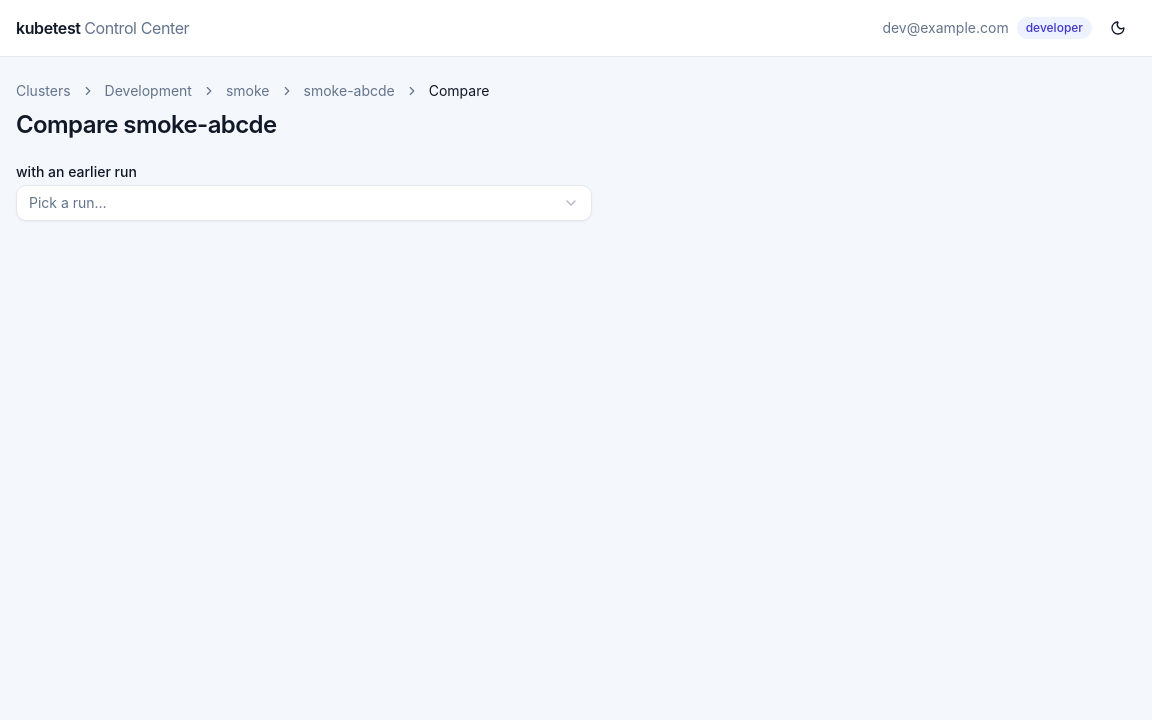
Scenario: compare a run › offers the runs to compare with, then shows what changed
This screenshot has width=1152, height=720.
Click the dropdown named "with an earlier run".
click(68, 202)  # box [16, 185, 592, 221]
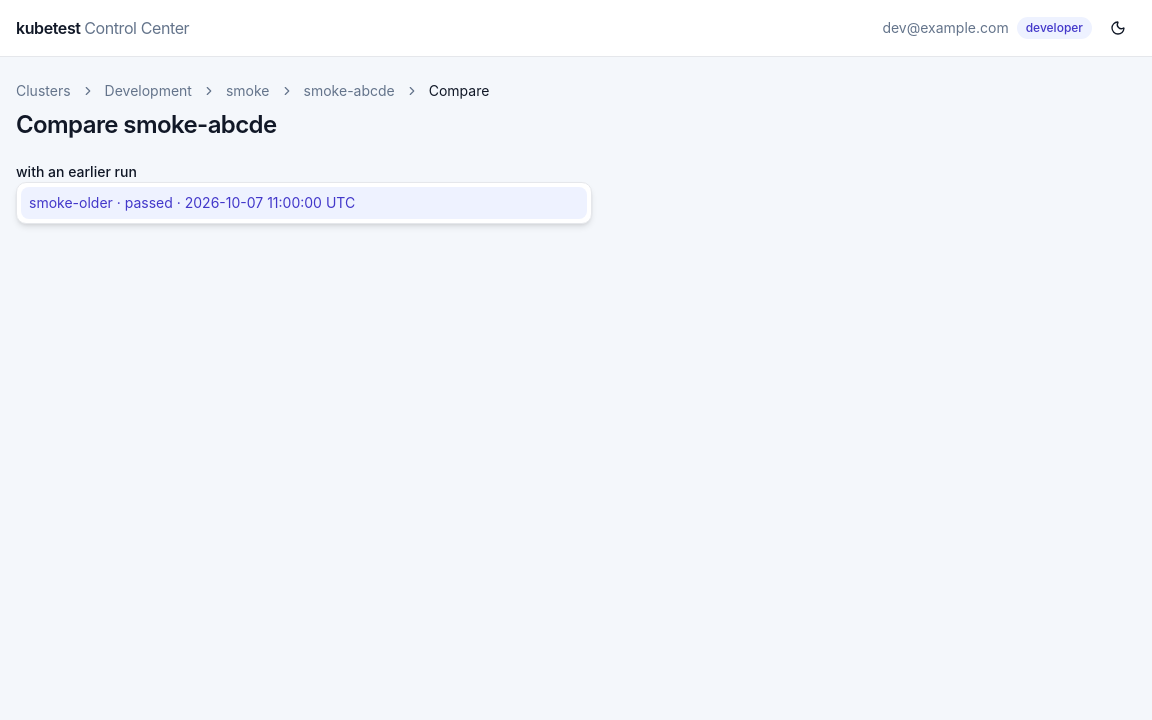
Click the option "smoke-older · passed · 2026-10-07 11:00:00 UTC".
click(304, 203)  # box [21, 187, 587, 219]
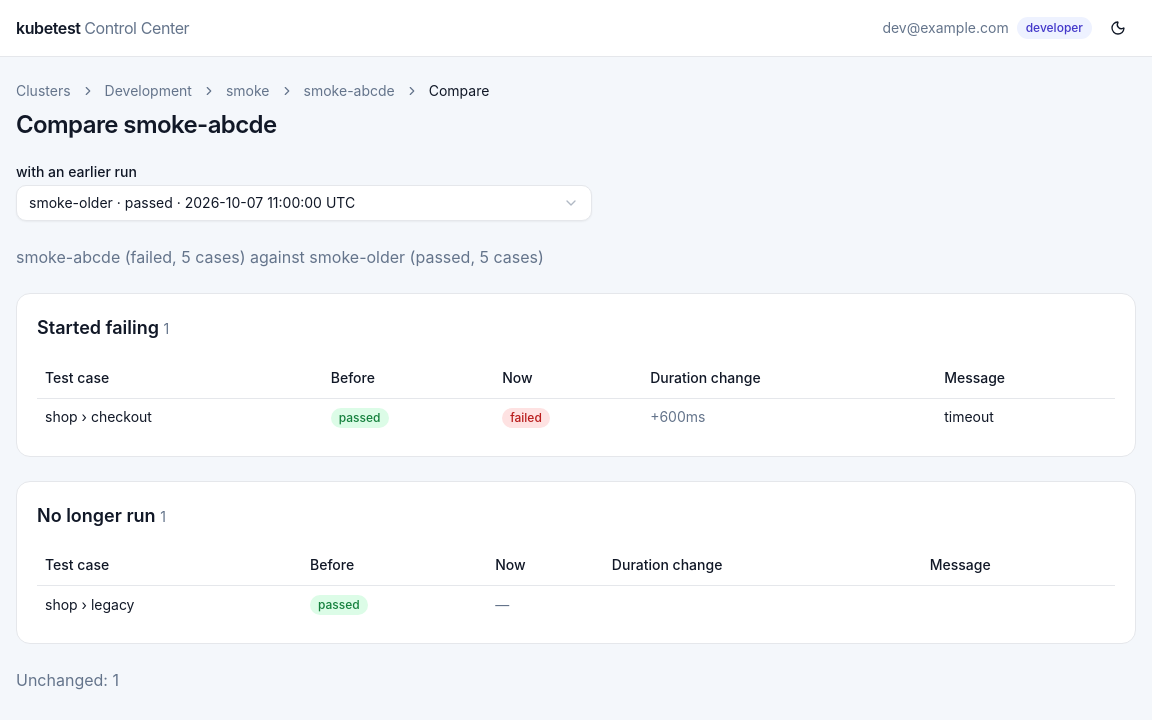
expect the text with test id "compare-summary" reads "smoke-abcde (failed, 5 cases) against smoke-older (passed, 5 cases)": met, box [16, 247, 544, 267]
expect the text "shop › checkout" is shown: met, box [37, 398, 323, 436]
expect the text "+600ms" is shown: met, box [642, 398, 936, 436]
